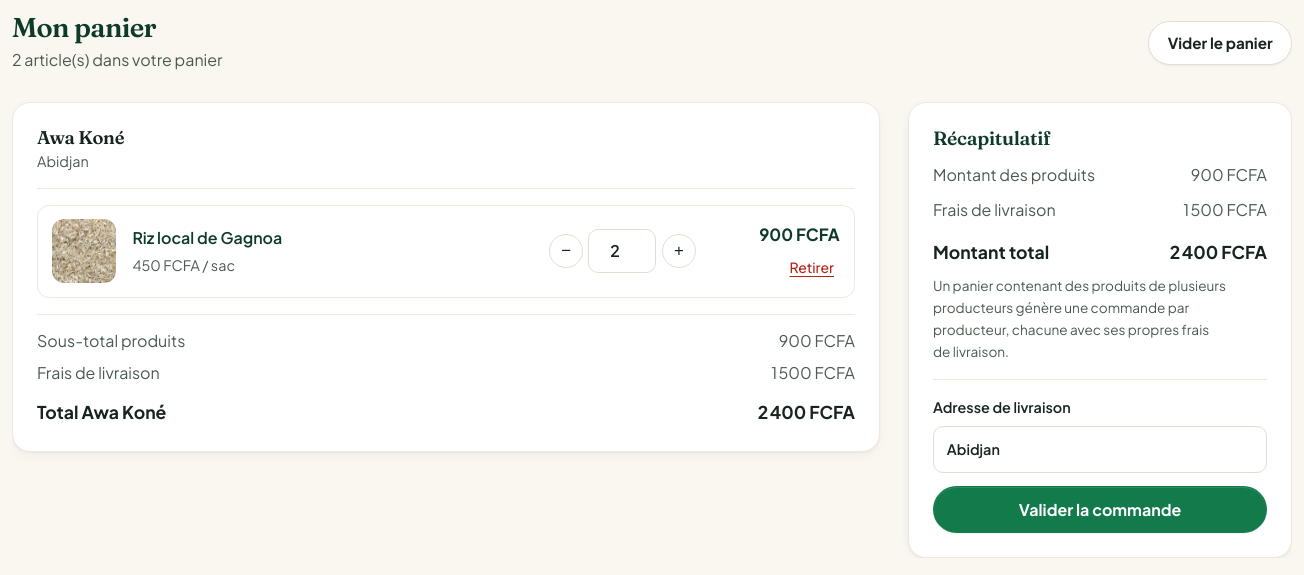
Test: PanierComponent — validation (tasks 7.2, 7.6) › crée la commande et vide le panier à la validation
What coordinates should you click on to do the following:
click the button "Valider la commande"
I would click on:
 (1100, 510)
Its box is [933, 486, 1267, 533].
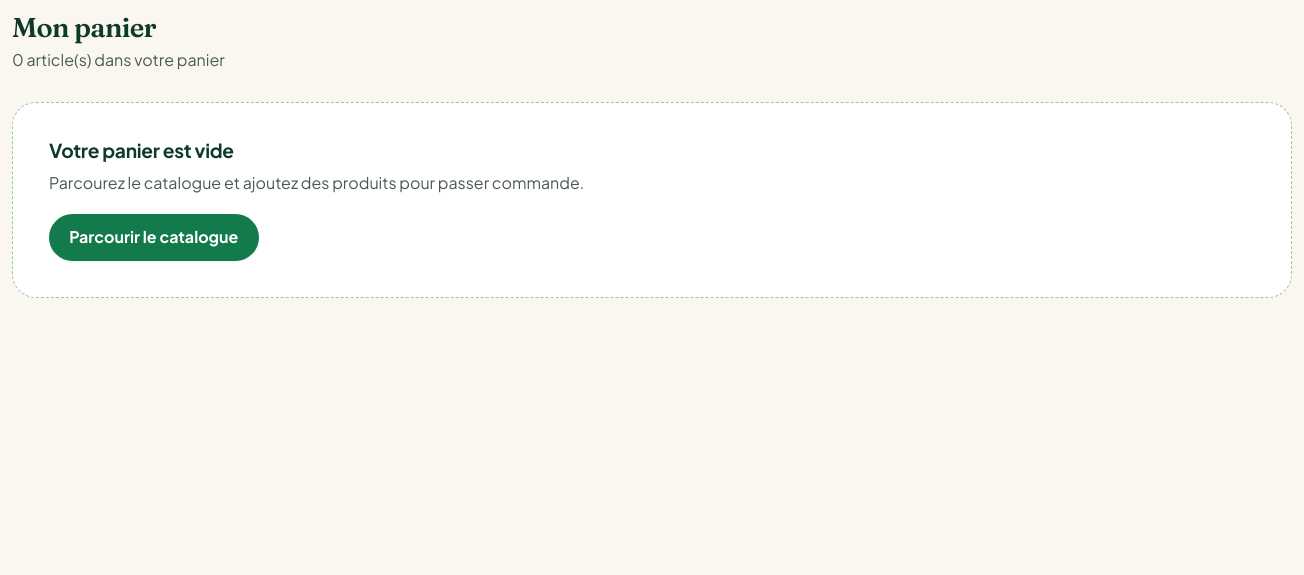
Check: the text "Votre panier est vide" is shown, box [49, 139, 234, 161]
